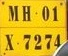character: (7, 4, 19, 22), (4, 33, 14, 51), (21, 5, 31, 21), (22, 33, 31, 50), (33, 33, 42, 50), (41, 5, 49, 21), (53, 34, 62, 48), (44, 34, 52, 49), (52, 5, 58, 21)
